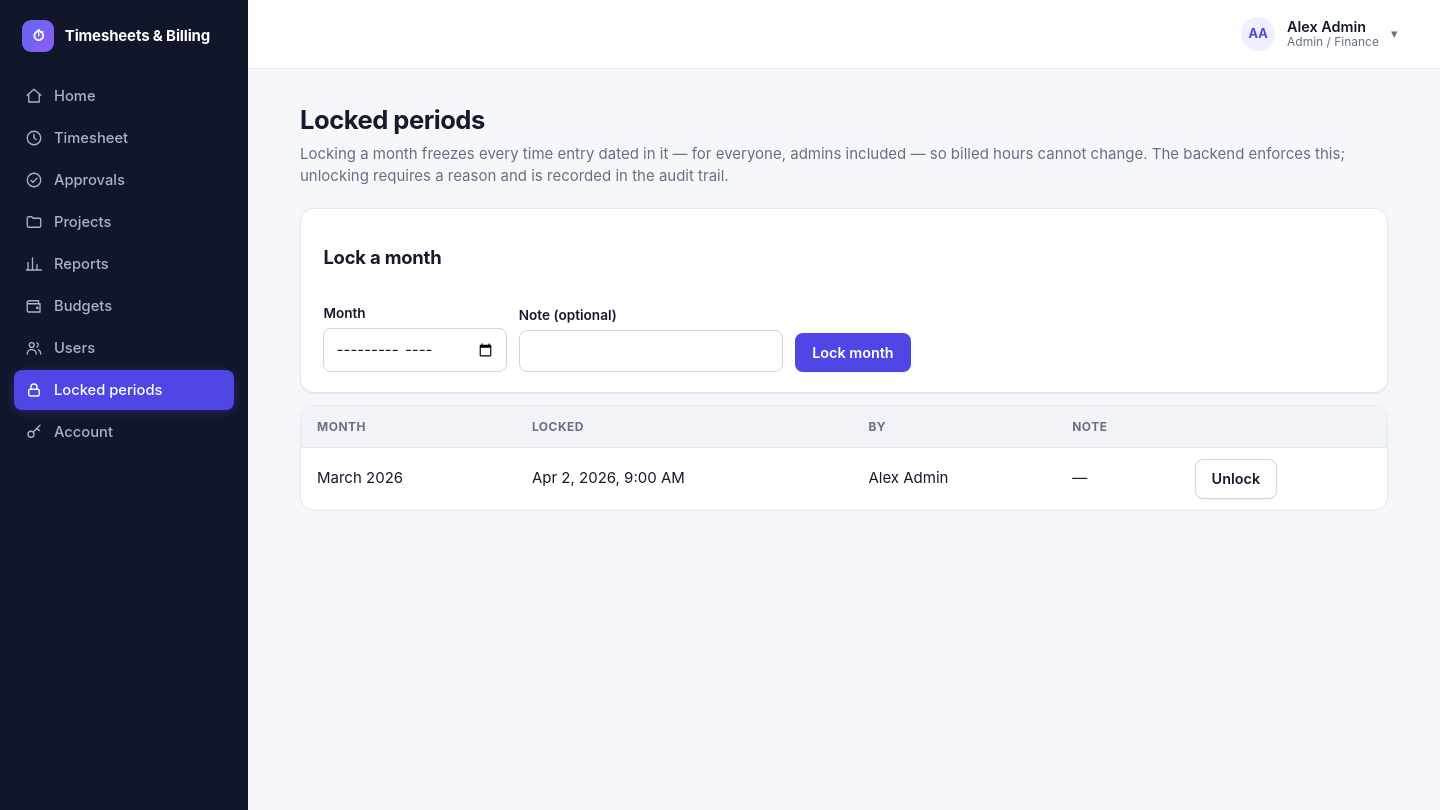
unlocking a month › requires a reason (at least 3 characters) before anything is sent
Expected: the heading "Locked periods" is shown, [300, 104, 485, 135]
Click the button with aria-label "Unlock March 2026". click: {"x": 1236, "y": 479}
box: [1195, 459, 1277, 498]
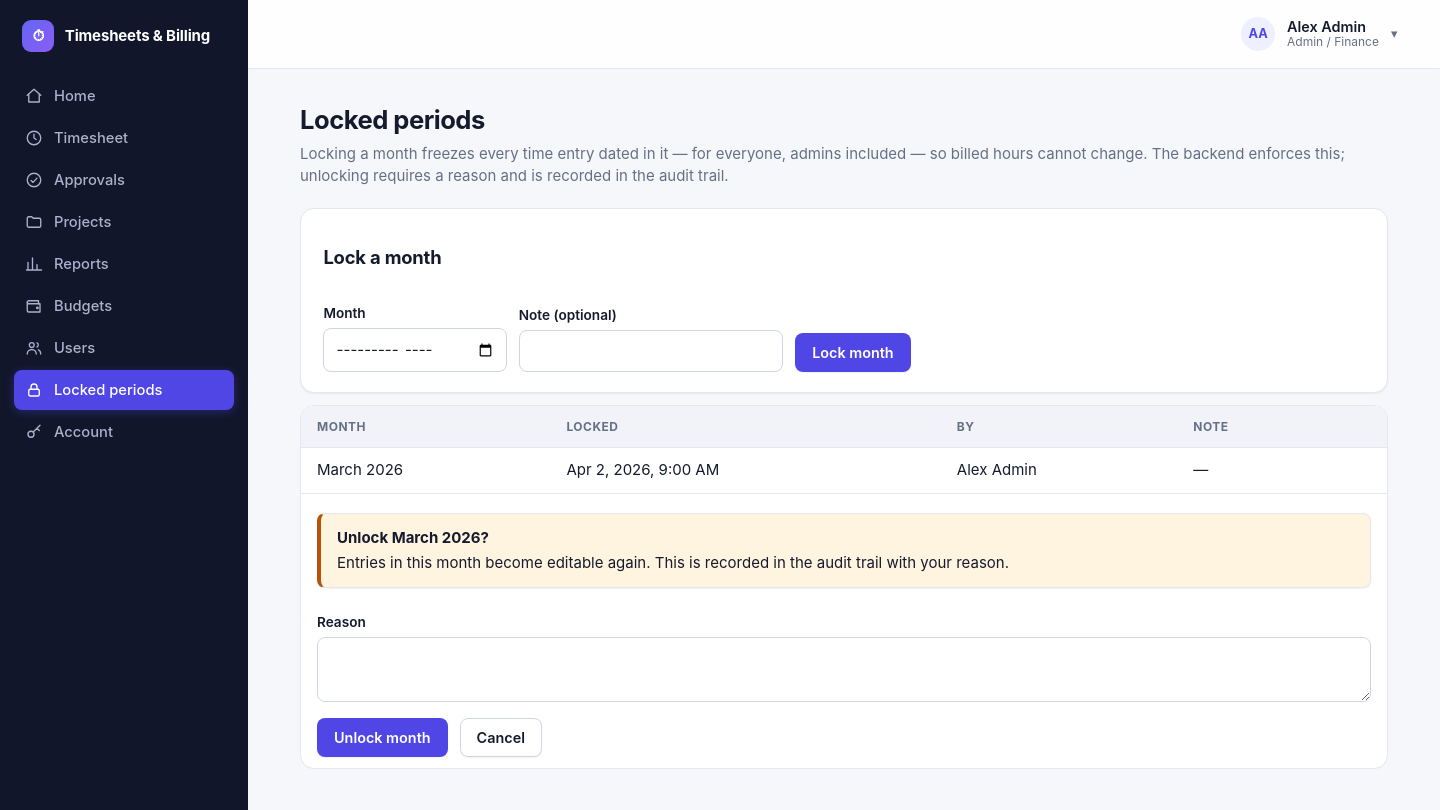
Now the text "Entries in this month become editable again" is shown, box [337, 552, 1009, 572]
Type "ab" into the text box labelled "Reason". click: {"x": 844, "y": 669}
box: [317, 637, 1371, 702]
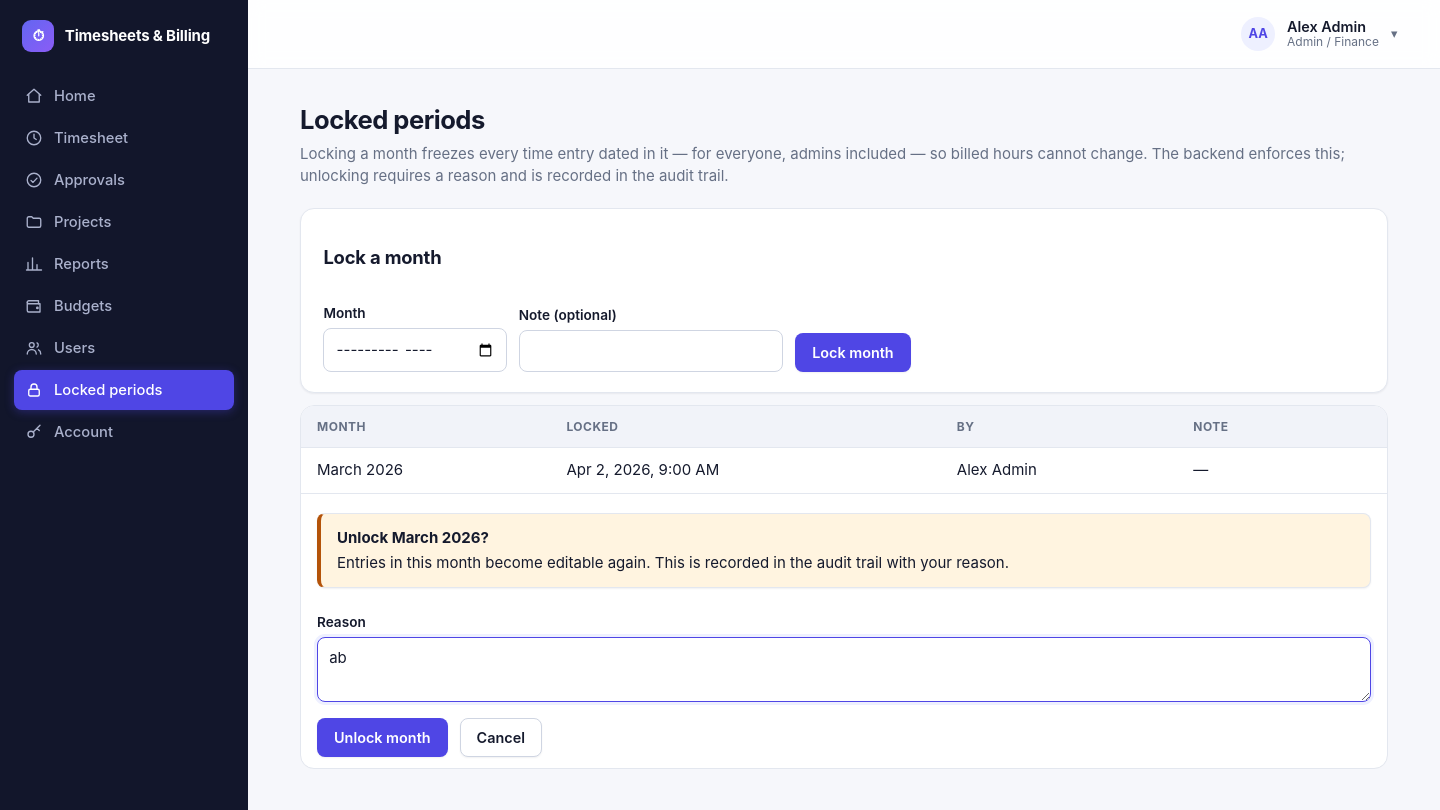
Click the button "Unlock month". click: {"x": 382, "y": 737}
box: [317, 718, 448, 757]
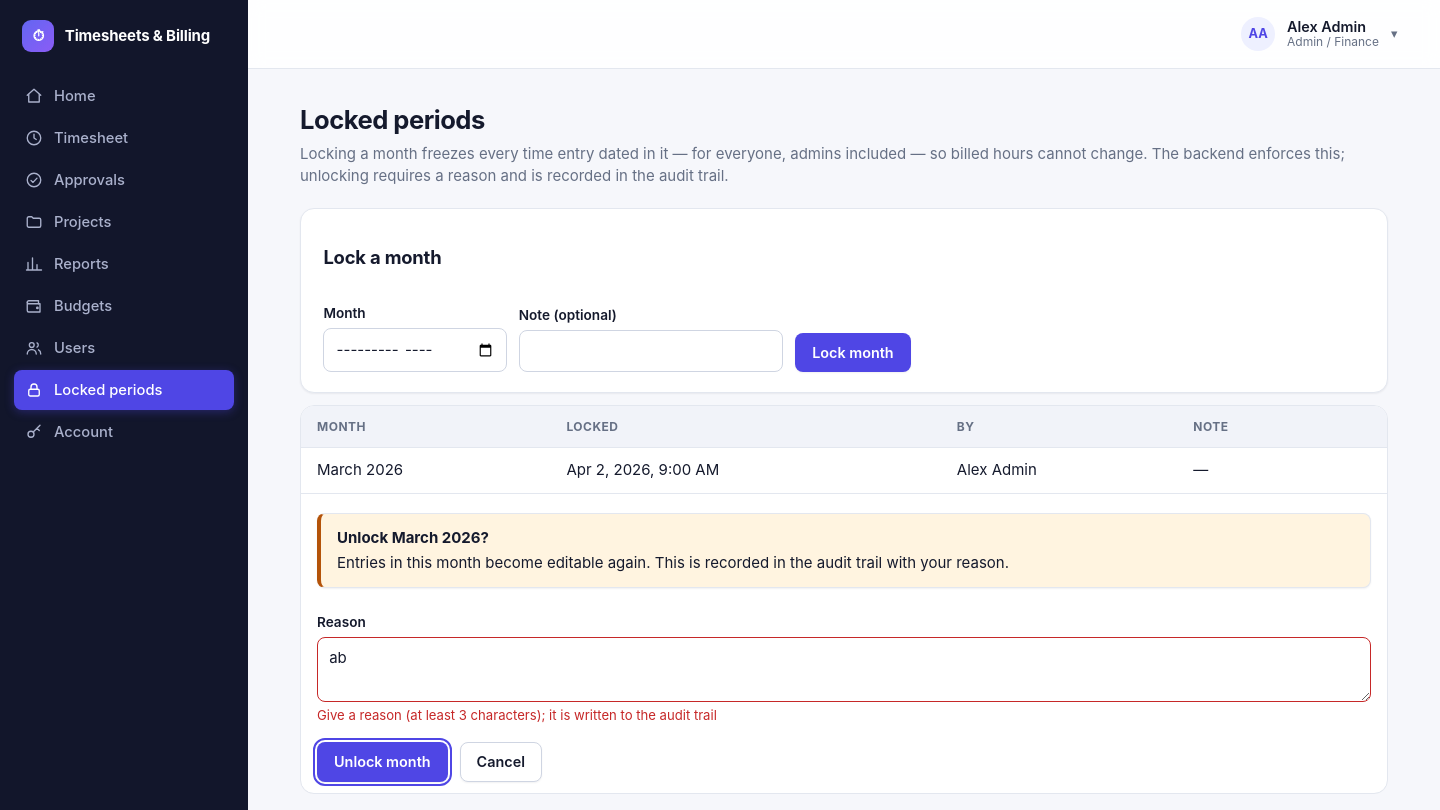
Now the text "Give a reason (at least 3 characters); it is written to the audit trail" is shown, box [317, 707, 717, 723]
